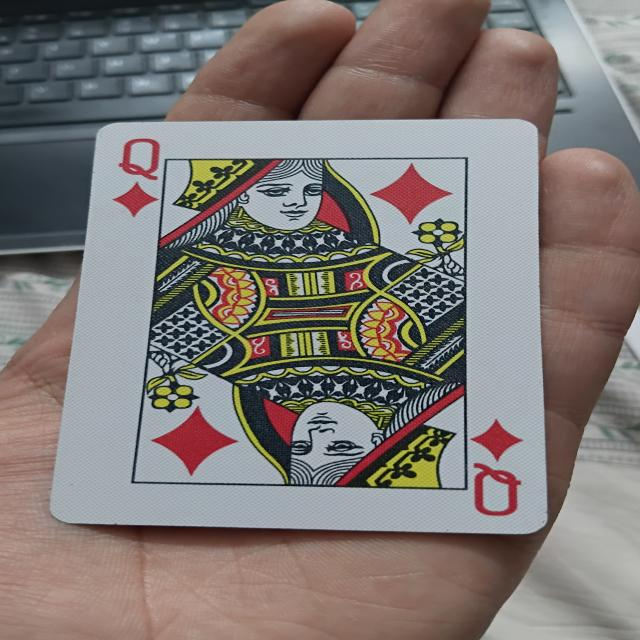QD: (72, 113, 560, 541)
